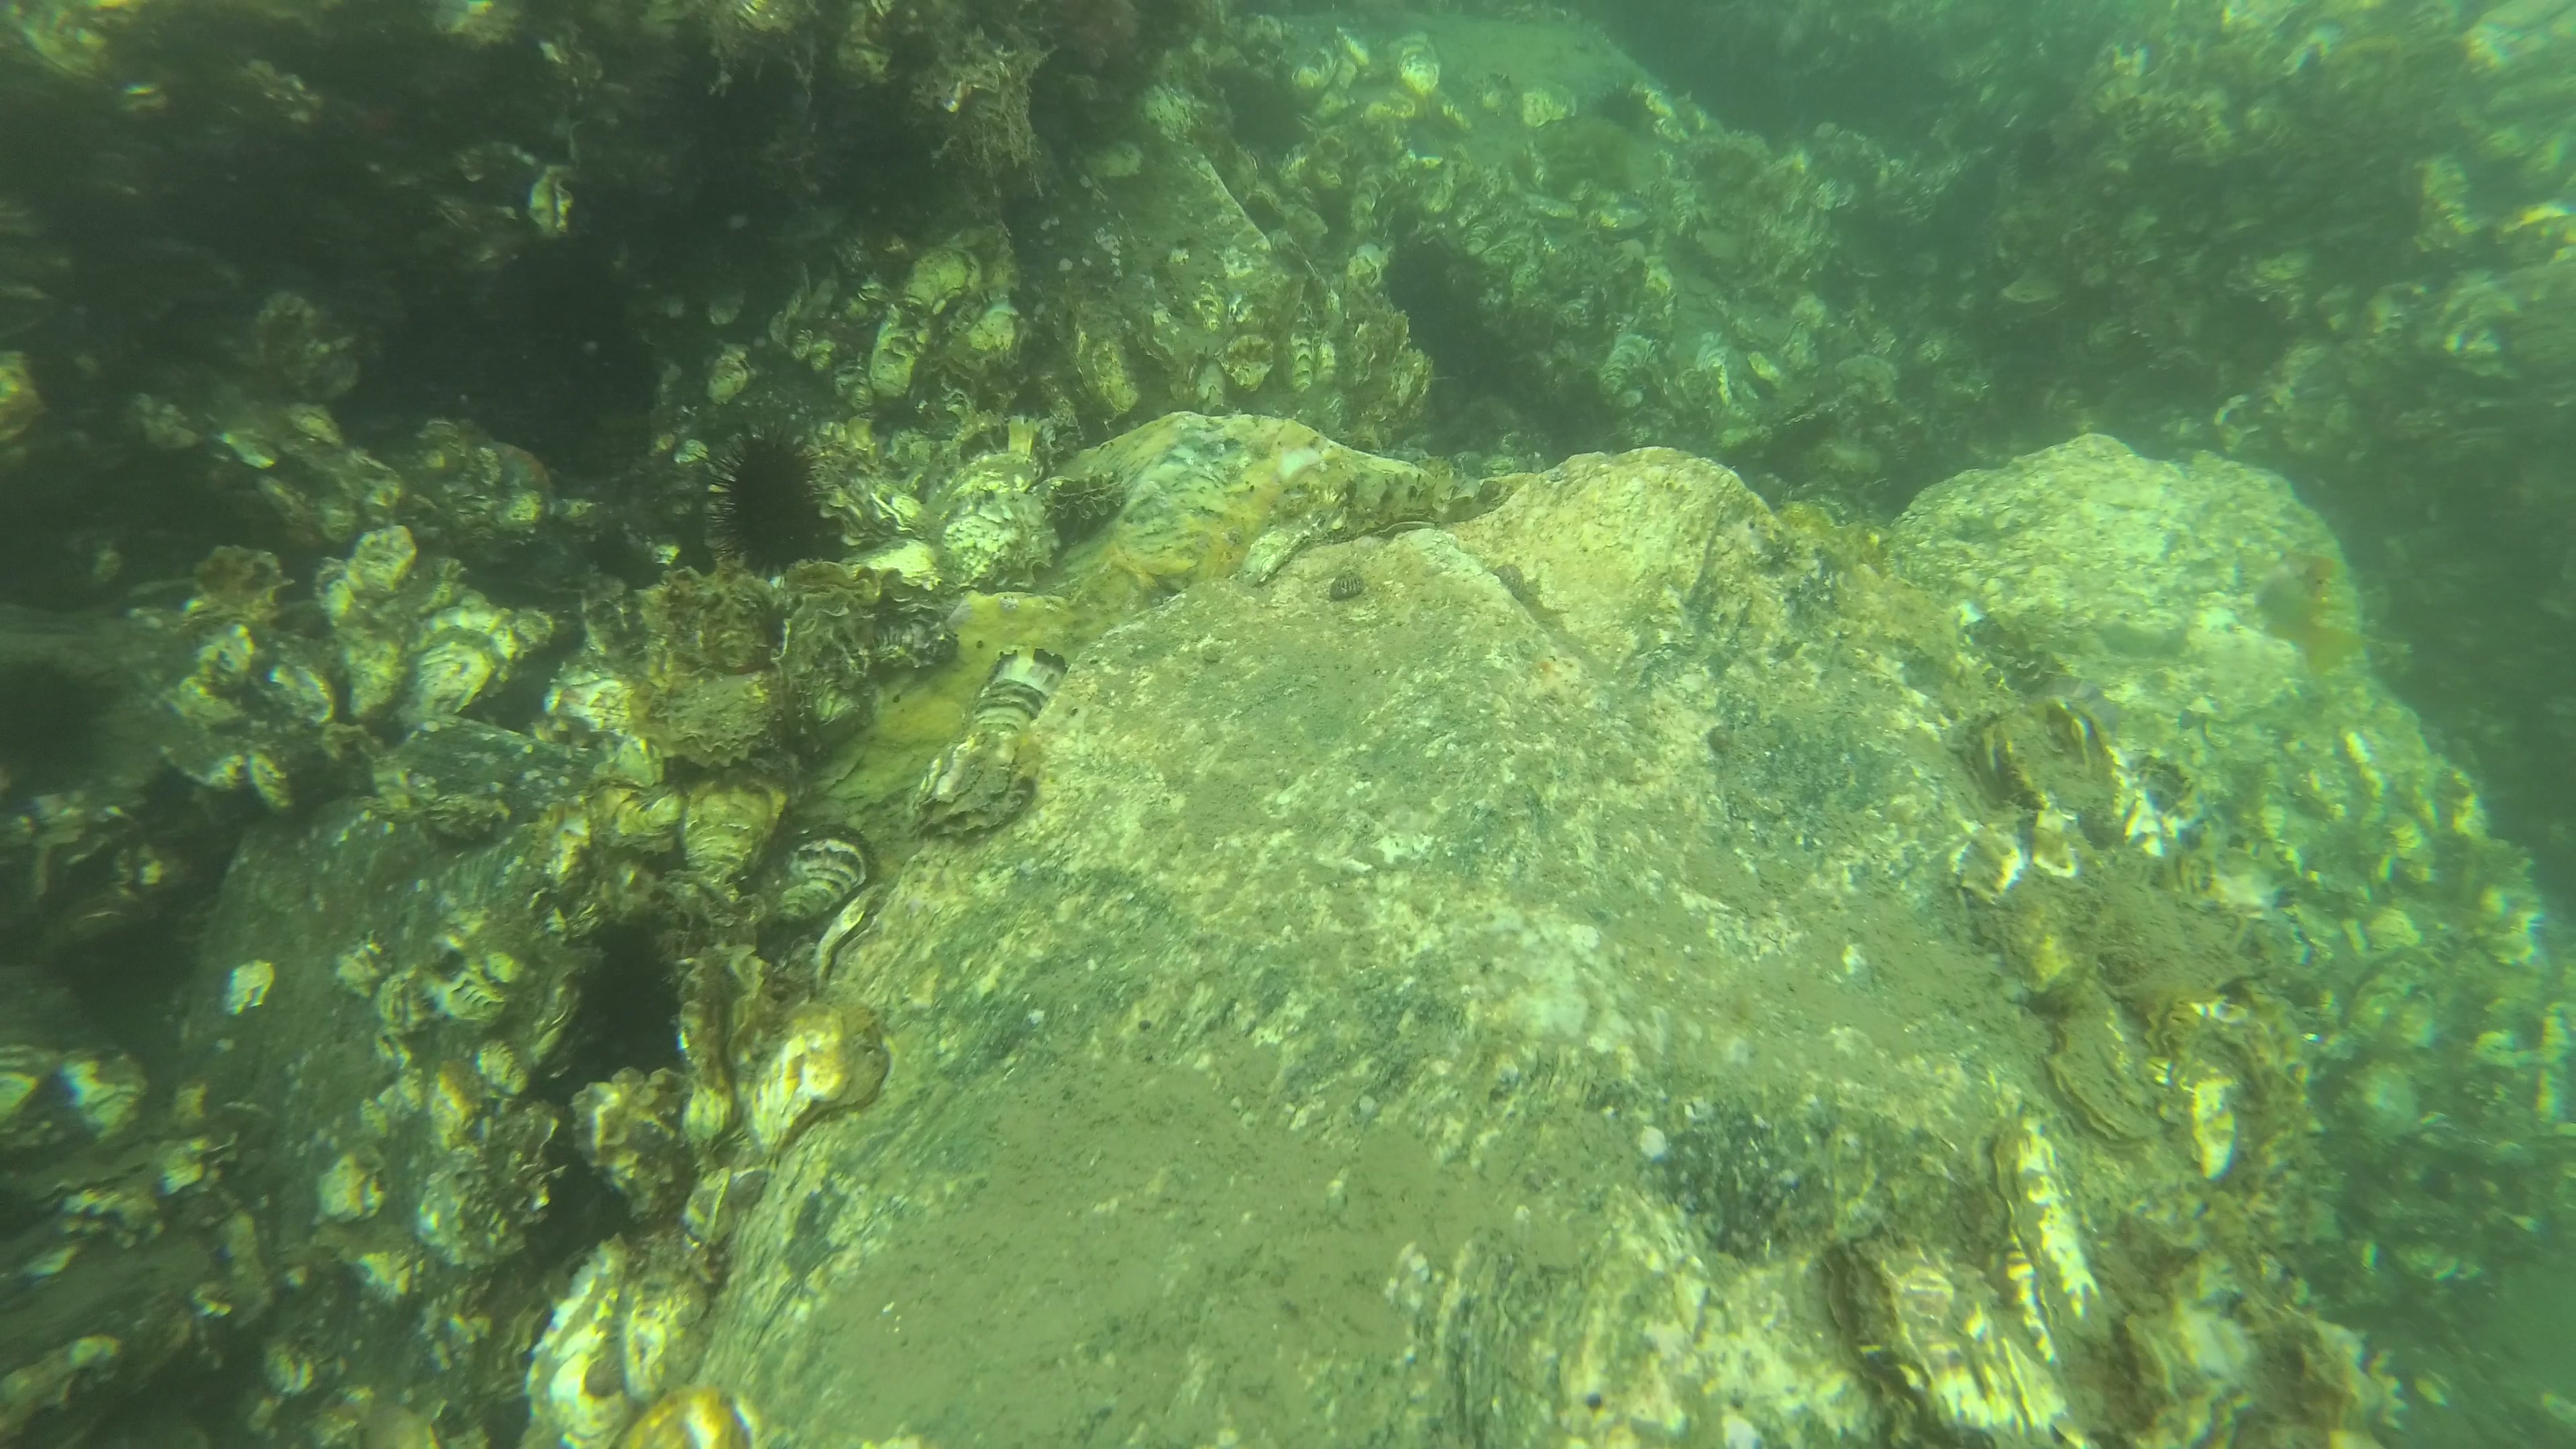echinus: (702, 414, 840, 580), (1592, 74, 1654, 136), (2015, 124, 2059, 175)
